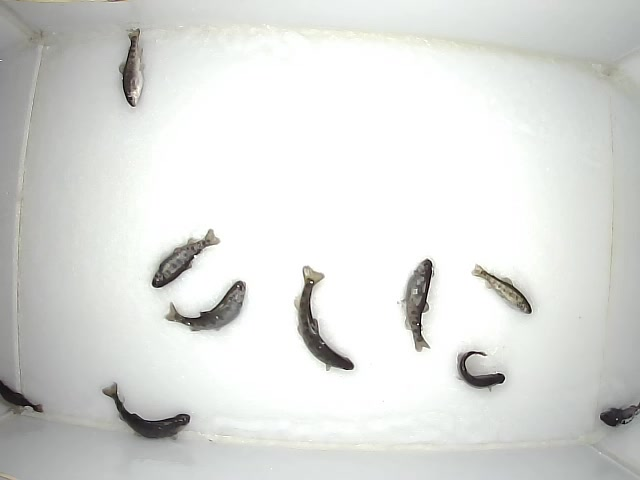fish: (289, 264, 356, 374), (99, 380, 191, 439), (162, 278, 247, 334), (149, 225, 221, 289), (398, 255, 436, 353), (472, 263, 534, 317), (452, 349, 508, 392), (116, 27, 146, 107), (1, 377, 42, 414), (598, 399, 640, 427)
